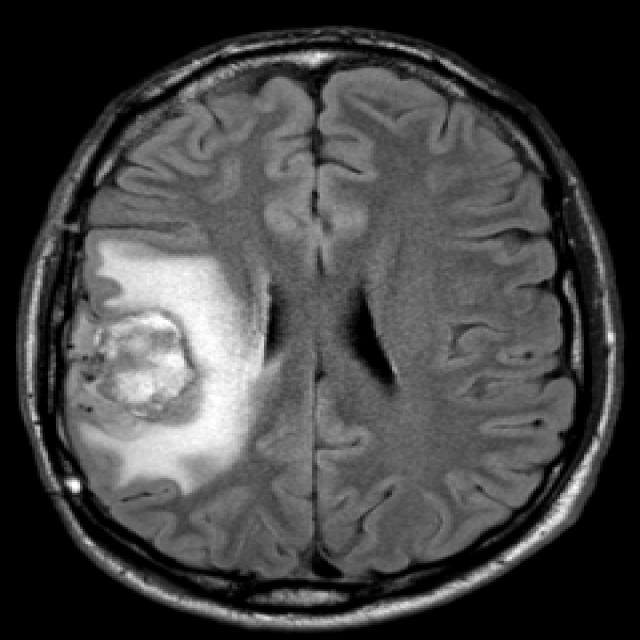Tumor-Cell: (54, 247, 222, 452)
